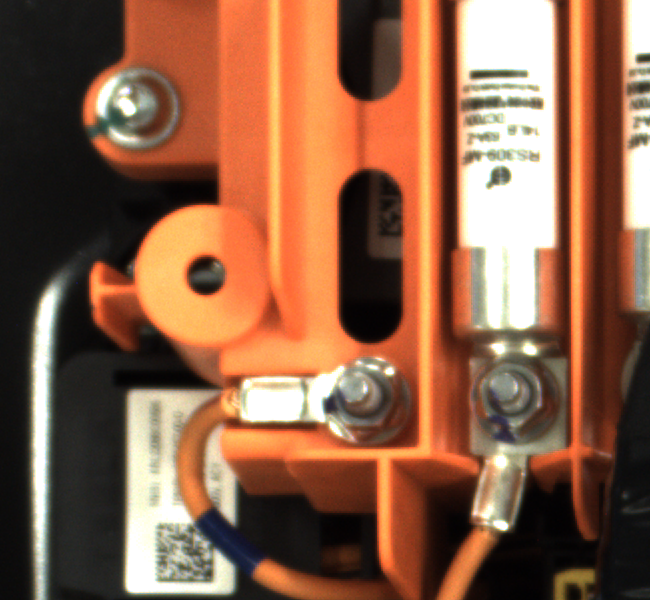screw_m: (93, 62, 184, 152)
screw_s: (307, 360, 412, 441), (463, 363, 555, 444)
